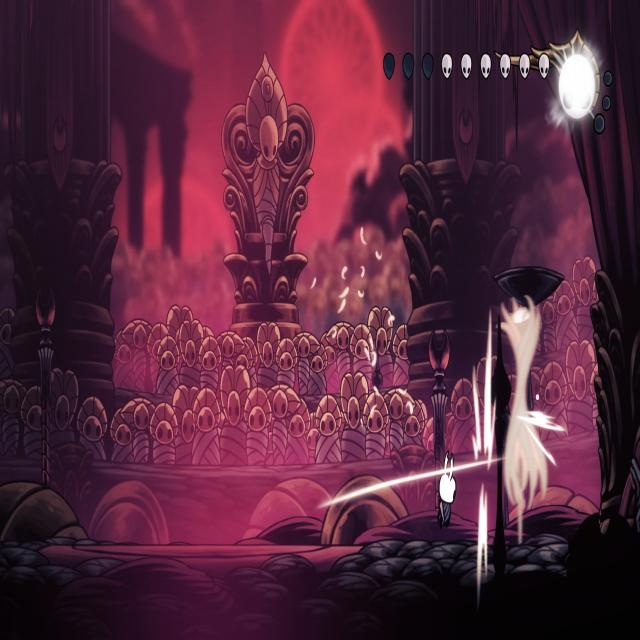Grimm: (498, 303, 557, 544)
Player: (430, 450, 458, 534)
